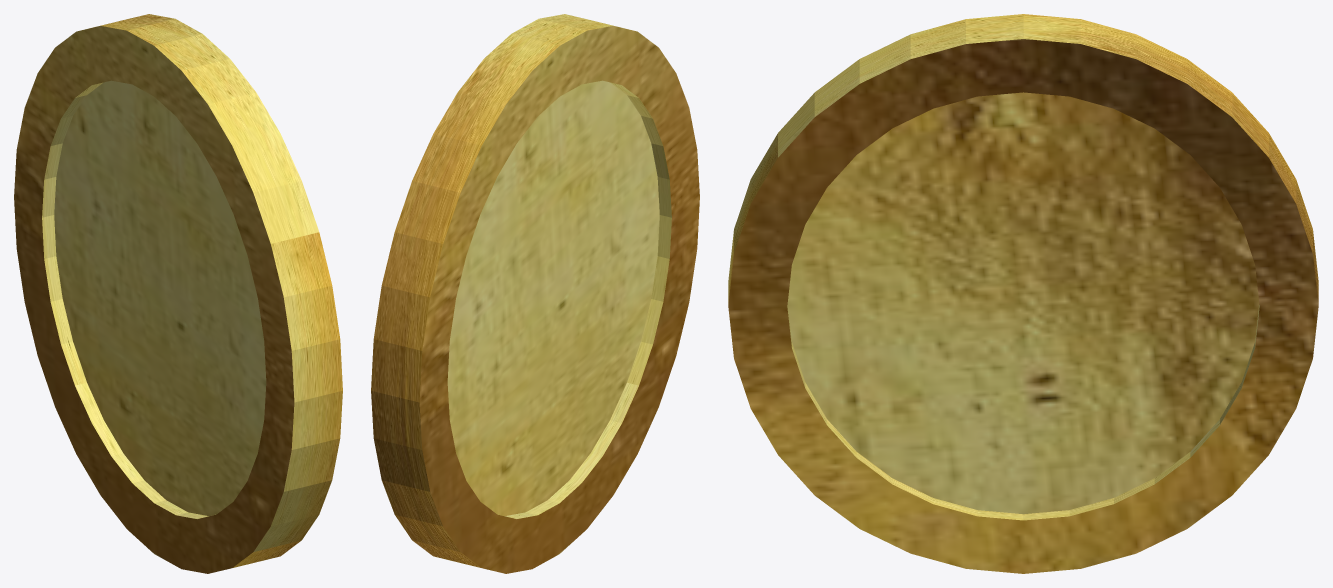
The model's file is Coin.fbx.
The picture shows the model from 3 angles, left to right: view 1: azimuth 30°, elevation 25°; view 2: azimuth 150°, elevation 25°; view 3: azimuth 270°, elevation 25°; orthographic projection. The views are drawn at different scales.
Visible parts, largest first — view 1: Coin; view 2: Coin; view 3: Coin.
Part boxes in pixels (bbox=[...]): Coin: bbox=[14, 14, 342, 573]; Coin: bbox=[371, 14, 699, 573]; Coin: bbox=[728, 14, 1318, 573].
Bounding box in the file's own units: 20 × 200 × 200.
